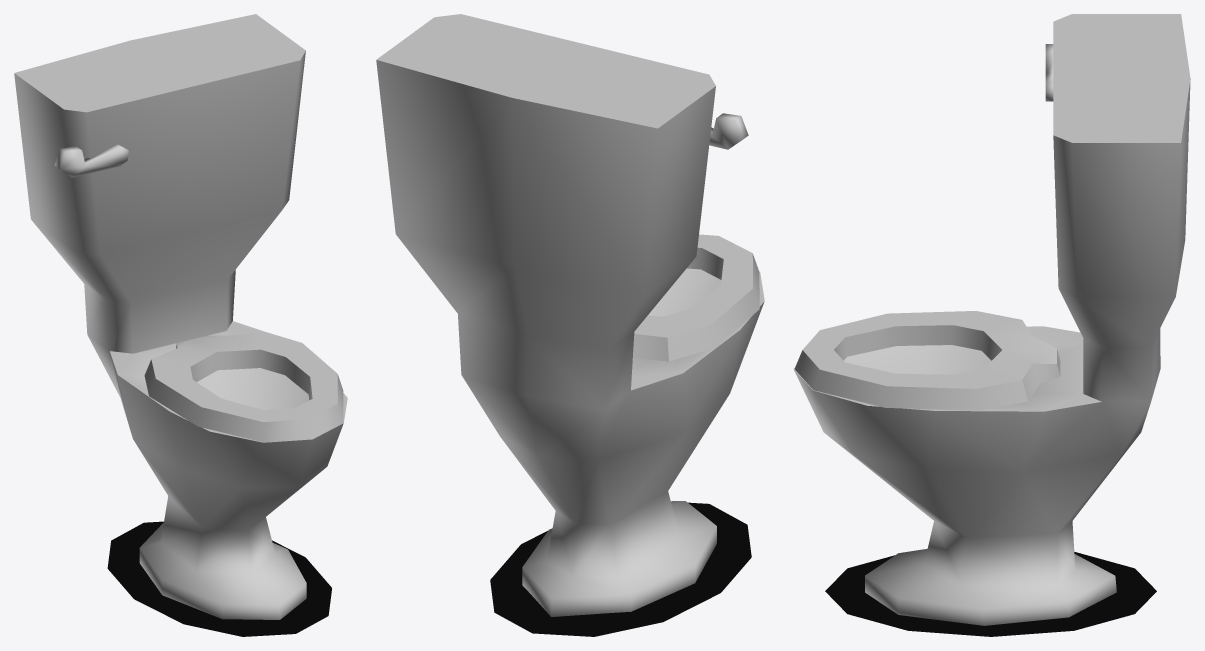
File: jj_ty_matong01.FBX
3 renders of one model, left to right at view 1: azimuth 30°, elevation 25°; view 2: azimuth 150°, elevation 25°; view 3: azimuth 270°, elevation 25°, orthographic. The views are drawn at different scales.
Parts seen in each view (by area): view 1: jj_ty_matong01, Cylinder001; view 2: jj_ty_matong01, Cylinder001; view 3: jj_ty_matong01, Cylinder001.
Part boxes in pixels (x1,y1,x2,y2): jj_ty_matong01: (14, 14, 347, 619); Cylinder001: (107, 521, 331, 636); jj_ty_matong01: (376, 14, 764, 616); Cylinder001: (490, 502, 751, 636); jj_ty_matong01: (793, 14, 1190, 625); Cylinder001: (825, 552, 1156, 636).
Size of the model in its own units: 47.57 by 84.03 by 58.07.
